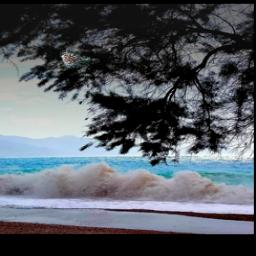Sparrow: (61, 52, 91, 69)
